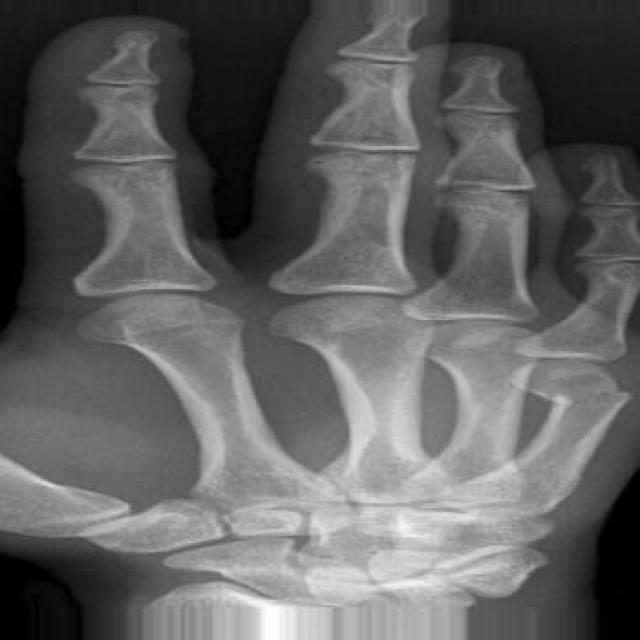Fracture: (536, 382, 639, 412)
